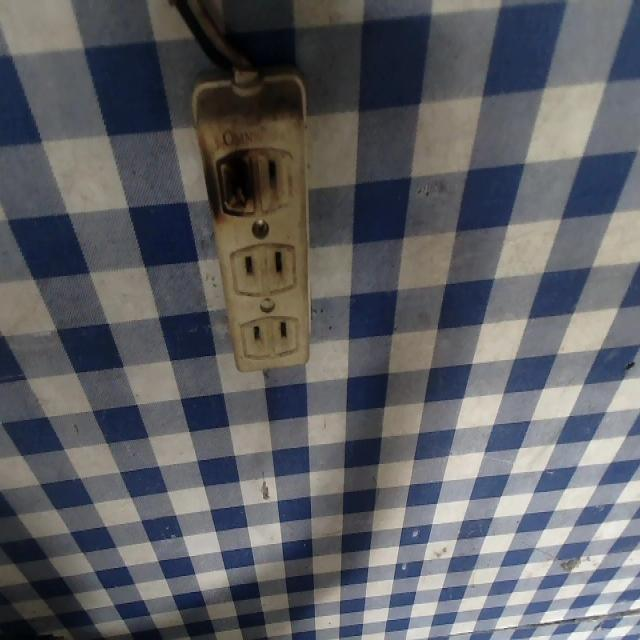-: (187, 123, 266, 225)
